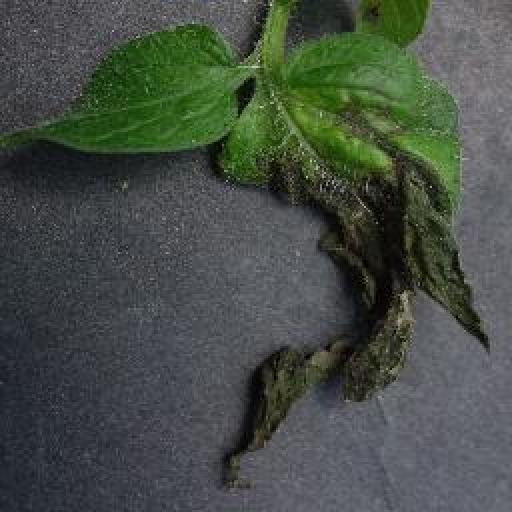disease_tomato: (220, 31, 495, 496)
